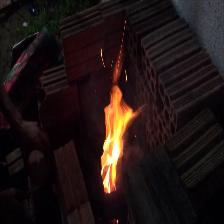fire: (98, 85, 130, 198)
